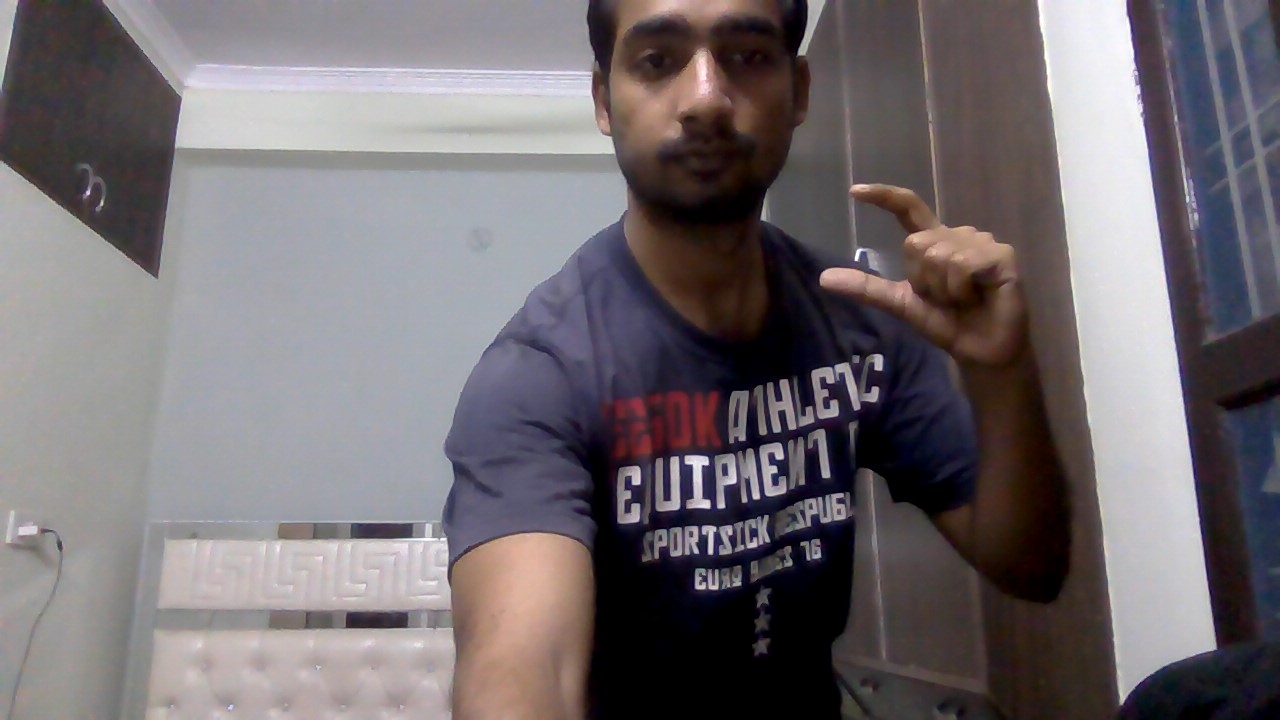Paste: (804, 171, 1055, 386)
